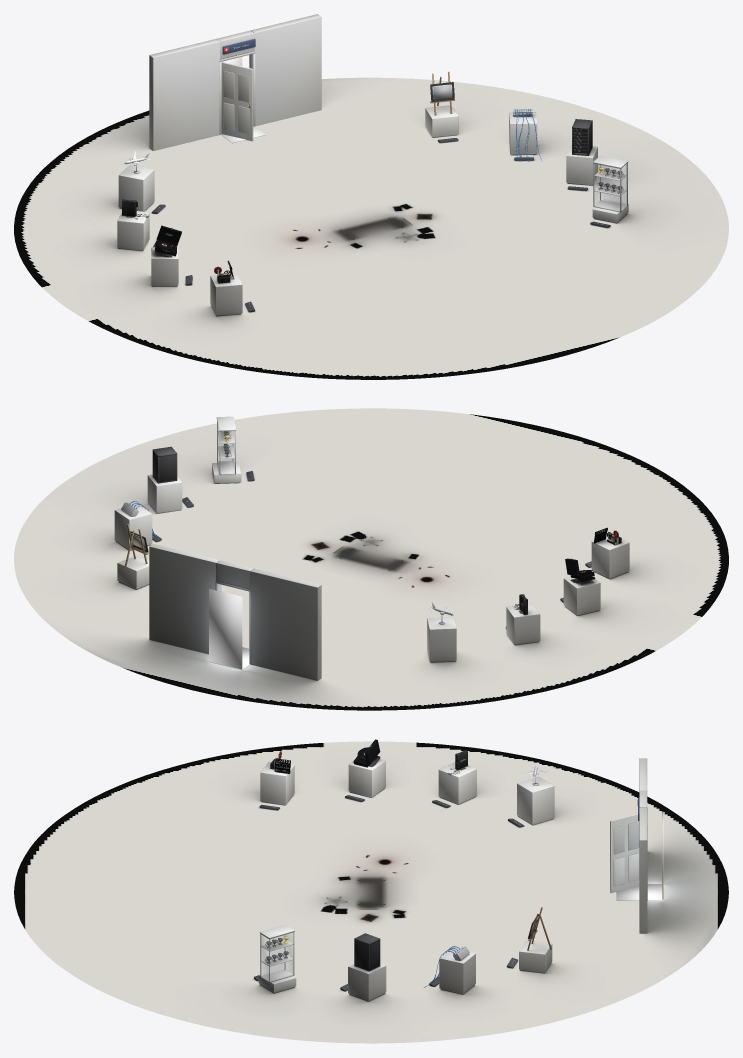
Rendered from musee.glb.
3 renders of one model, top to bottom at view 1: azimuth 30°, elevation 25°; view 2: azimuth 150°, elevation 25°; view 3: azimuth 270°, elevation 25°, orthographic.
Parts seen in each view (by area): view 1: MFloor, Door, St_linux, St_trophees, St_musique, St_voyages, St_projecteur, St_weplay, St_jeux, Vitrine_glass, St_reseau; view 2: MFloor, Door, St_linux, St_musique, St_projecteur, St_voyages, St_reseau, St_trophees, St_jeux, St_weplay, Vitrine_glass; view 3: MFloor, Door, St_linux, St_voyages, St_musique, St_reseau, St_jeux, St_trophees, St_projecteur, Vitrine_glass, St_weplay.
Boxes of the visible parts, x1,y1,x2,y2 form: MFloor: [14, 77, 728, 379]; Door: [149, 14, 321, 150]; St_linux: [566, 119, 597, 190]; St_trophees: [590, 155, 628, 227]; St_musique: [151, 225, 192, 286]; St_voyages: [118, 151, 165, 213]; St_projecteur: [210, 260, 255, 316]; St_weplay: [425, 72, 458, 142]; St_jeux: [117, 199, 155, 250]; Vitrine_glass: [594, 164, 626, 211]; St_reseau: [509, 109, 541, 161]; MFloor: [14, 408, 728, 710]; Door: [149, 544, 321, 680]; St_linux: [147, 446, 193, 513]; St_musique: [560, 558, 600, 615]; St_projecteur: [585, 527, 629, 579]; St_voyages: [427, 602, 456, 662]; St_reseau: [114, 501, 161, 550]; St_trophees: [212, 416, 254, 483]; St_jeux: [505, 594, 540, 645]; St_weplay: [117, 524, 149, 589]; Vitrine_glass: [217, 424, 234, 473]; MFloor: [14, 741, 728, 1043]; Door: [610, 758, 663, 933]; St_linux: [340, 933, 386, 1001]; St_voyages: [508, 766, 554, 827]; St_musique: [345, 739, 385, 801]; St_reseau: [424, 946, 475, 994]; St_jeux: [432, 750, 476, 807]; St_trophees: [254, 925, 296, 993]; St_projecteur: [259, 751, 294, 810]; Vitrine_glass: [261, 933, 293, 981]; St_weplay: [506, 907, 552, 973].
Bounding box in the file's own units: 18.41 × 2.67 × 18.41.
9 materials, 4 textured.
